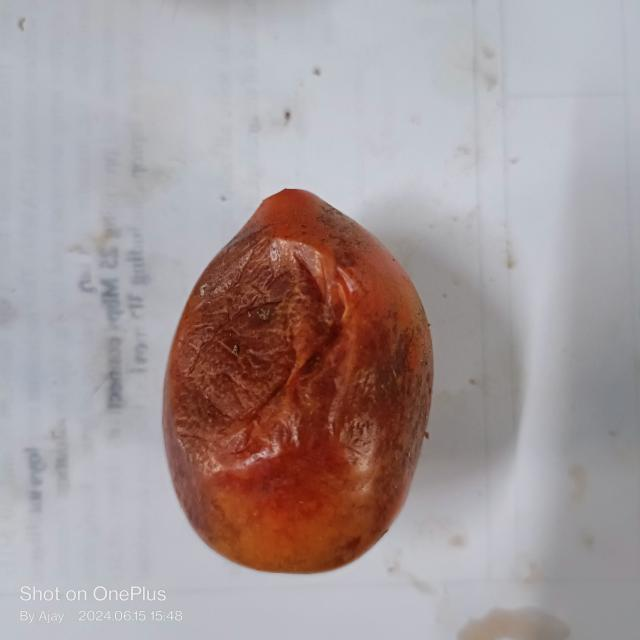Botrytis: (166, 236, 345, 410)
